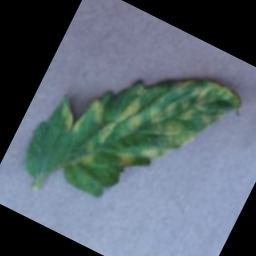Leaf_Mold: (129, 61, 242, 184), (114, 80, 158, 133), (58, 104, 87, 135), (83, 95, 111, 126), (109, 145, 139, 173), (93, 116, 116, 146)
